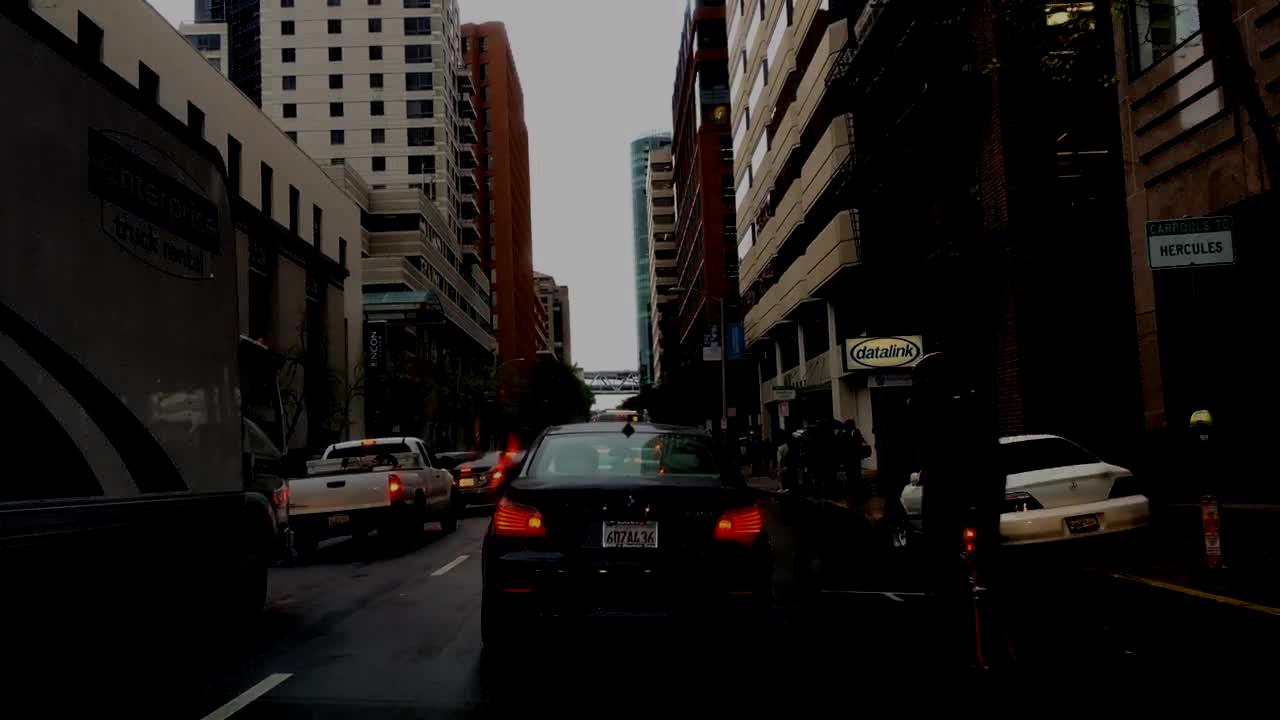bmw: (620, 494, 642, 517)
